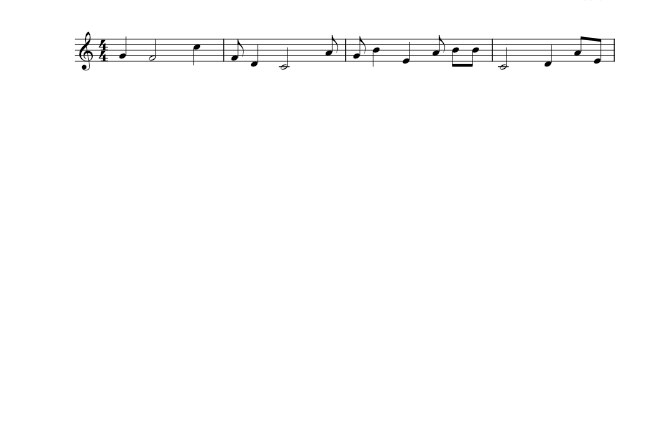Treble Clef: (74, 28, 98, 75)
